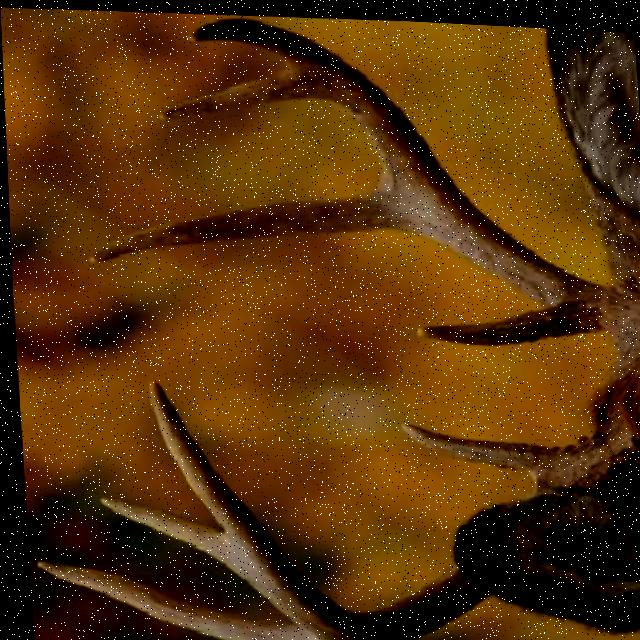L-G1: (394, 413, 564, 468)
L-G2: (30, 560, 324, 640)
R-F: (185, 15, 611, 320)
R-G1: (412, 296, 595, 340)
R-G2: (85, 182, 403, 262)
R-G3: (157, 61, 326, 117)
